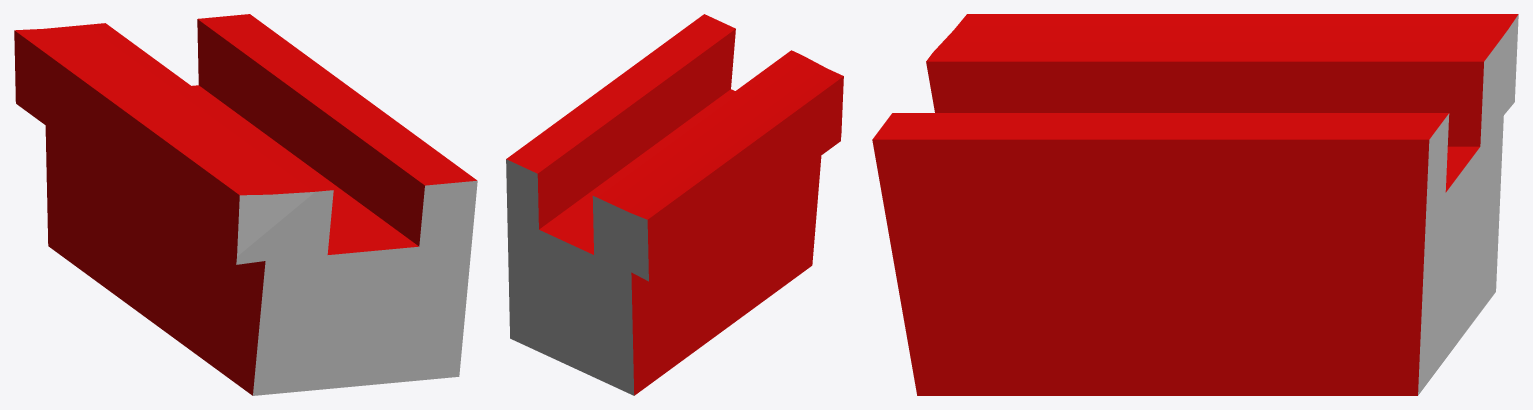
Rendered from mdl_ciudadela_pared_fracturepart9.fbx.
3 views of the same model, side by side, from view 1: azimuth 30°, elevation 25°; view 2: azimuth 150°, elevation 25°; view 3: azimuth 270°, elevation 25° (orthographic). The views are drawn at different scales.
Parts seen in each view (by area): view 1: mdl_ciudadela_pared_fracturepart9; view 2: mdl_ciudadela_pared_fracturepart9; view 3: mdl_ciudadela_pared_fracturepart9.
Boxes of the visible parts, x1,y1,x2,y2 form: mdl_ciudadela_pared_fracturepart9: (14, 14, 477, 395); mdl_ciudadela_pared_fracturepart9: (506, 14, 843, 395); mdl_ciudadela_pared_fracturepart9: (872, 14, 1518, 395).
Bounding box in the file's own units: 4.07 × 4.21 × 9.37.
